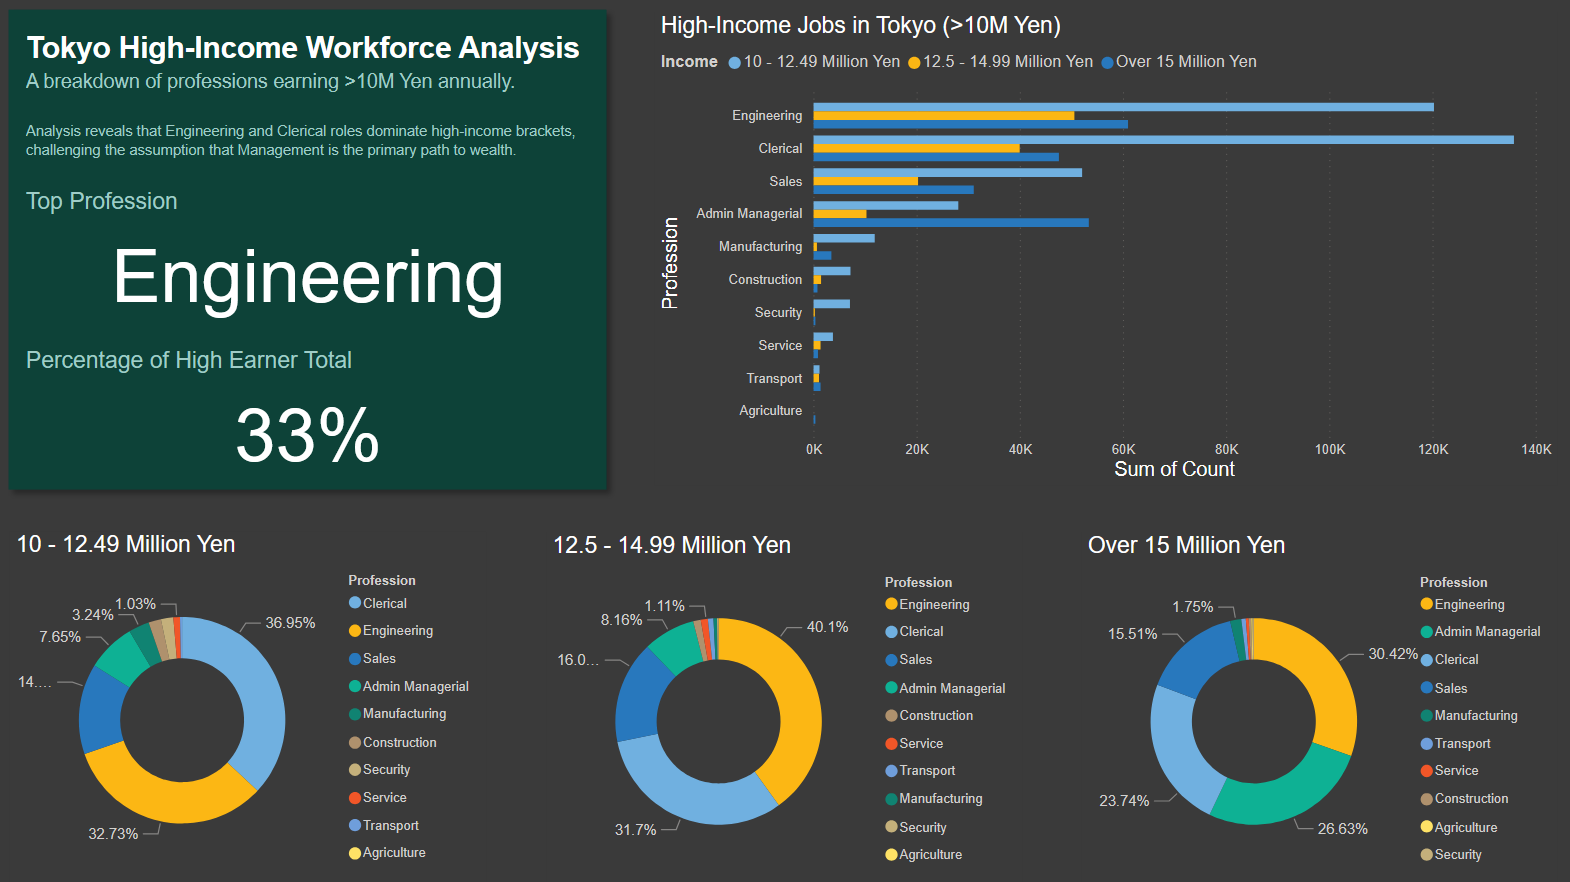

This screenshot's page, from the dashboard's own definition file:
{"tool":"powerbi","page":{"name":"Tokyo Dashboard","canvas":[1280,720],"ordinal":0},"visuals":[{"type":"clusteredBarChart","title":"High-Income Jobs in Tokyo (>10M Yen)","fields":{"Category":["tokyo_high_income.Job Type"],"Y":["Sum(tokyo_high_income.Count)"],"Series":["tokyo_high_income.income"]},"box":[534,11,734,385],"z":0},{"type":"donutChart","title":"12.5 - 14.99 Million Yen","fields":{"Category":["tokyo_high_income.Job Type"],"Y":["Sum(tokyo_high_income.Count)"]},"box":[446.1,434.5,386.7,285.4],"z":1000},{"type":"donutChart","title":"Over 15 Million Yen","fields":{"Category":["tokyo_high_income.Job Type"],"Y":["Sum(tokyo_high_income.Count)"]},"box":[881,434,387,286],"z":2000},{"type":"donutChart","title":"10 - 12.49 Million Yen","fields":{"Category":["tokyo_high_income.Job Type"],"Y":["Sum(tokyo_high_income.Count)"]},"box":[10,433,387,286],"z":3000},{"type":"shape","box":[0,0,504,408],"z":4000},{"type":"textbox","box":[18,21,469,50],"z":5000},{"type":"textbox","box":[18,54,469,31],"z":6000},{"type":"textbox","box":[18,95,469,47],"z":7000},{"type":"card","title":"Top Profession","fields":{"Values":["tokyo_high_income.Top Job Name"]},"box":[18,154,469,112],"z":8000},{"type":"card","title":"Percentage of High Earner Total","fields":{"Values":["tokyo_high_income.% Engineering High Earners"]},"box":[18,283,469,113],"z":9000}]}

Visuals, with their boxes in screenshot pixels (x1, y1, x2, y2), scaled from the page's 1280x720 canvas onto the 1570x882 screenshot:
"High-Income Jobs in Tokyo (>10M Yen)" clusteredBarChart: bbox(655, 13, 1555, 485)
"12.5 - 14.99 Million Yen" donutChart: bbox(547, 532, 1021, 881)
"Over 15 Million Yen" donutChart: bbox(1081, 532, 1555, 881)
"10 - 12.49 Million Yen" donutChart: bbox(12, 530, 487, 881)
shape: bbox(0, 0, 618, 500)
textbox: bbox(22, 26, 597, 87)
textbox: bbox(22, 66, 597, 104)
textbox: bbox(22, 116, 597, 174)
"Top Profession" card: bbox(22, 189, 597, 326)
"Percentage of High Earner Total" card: bbox(22, 347, 597, 485)
